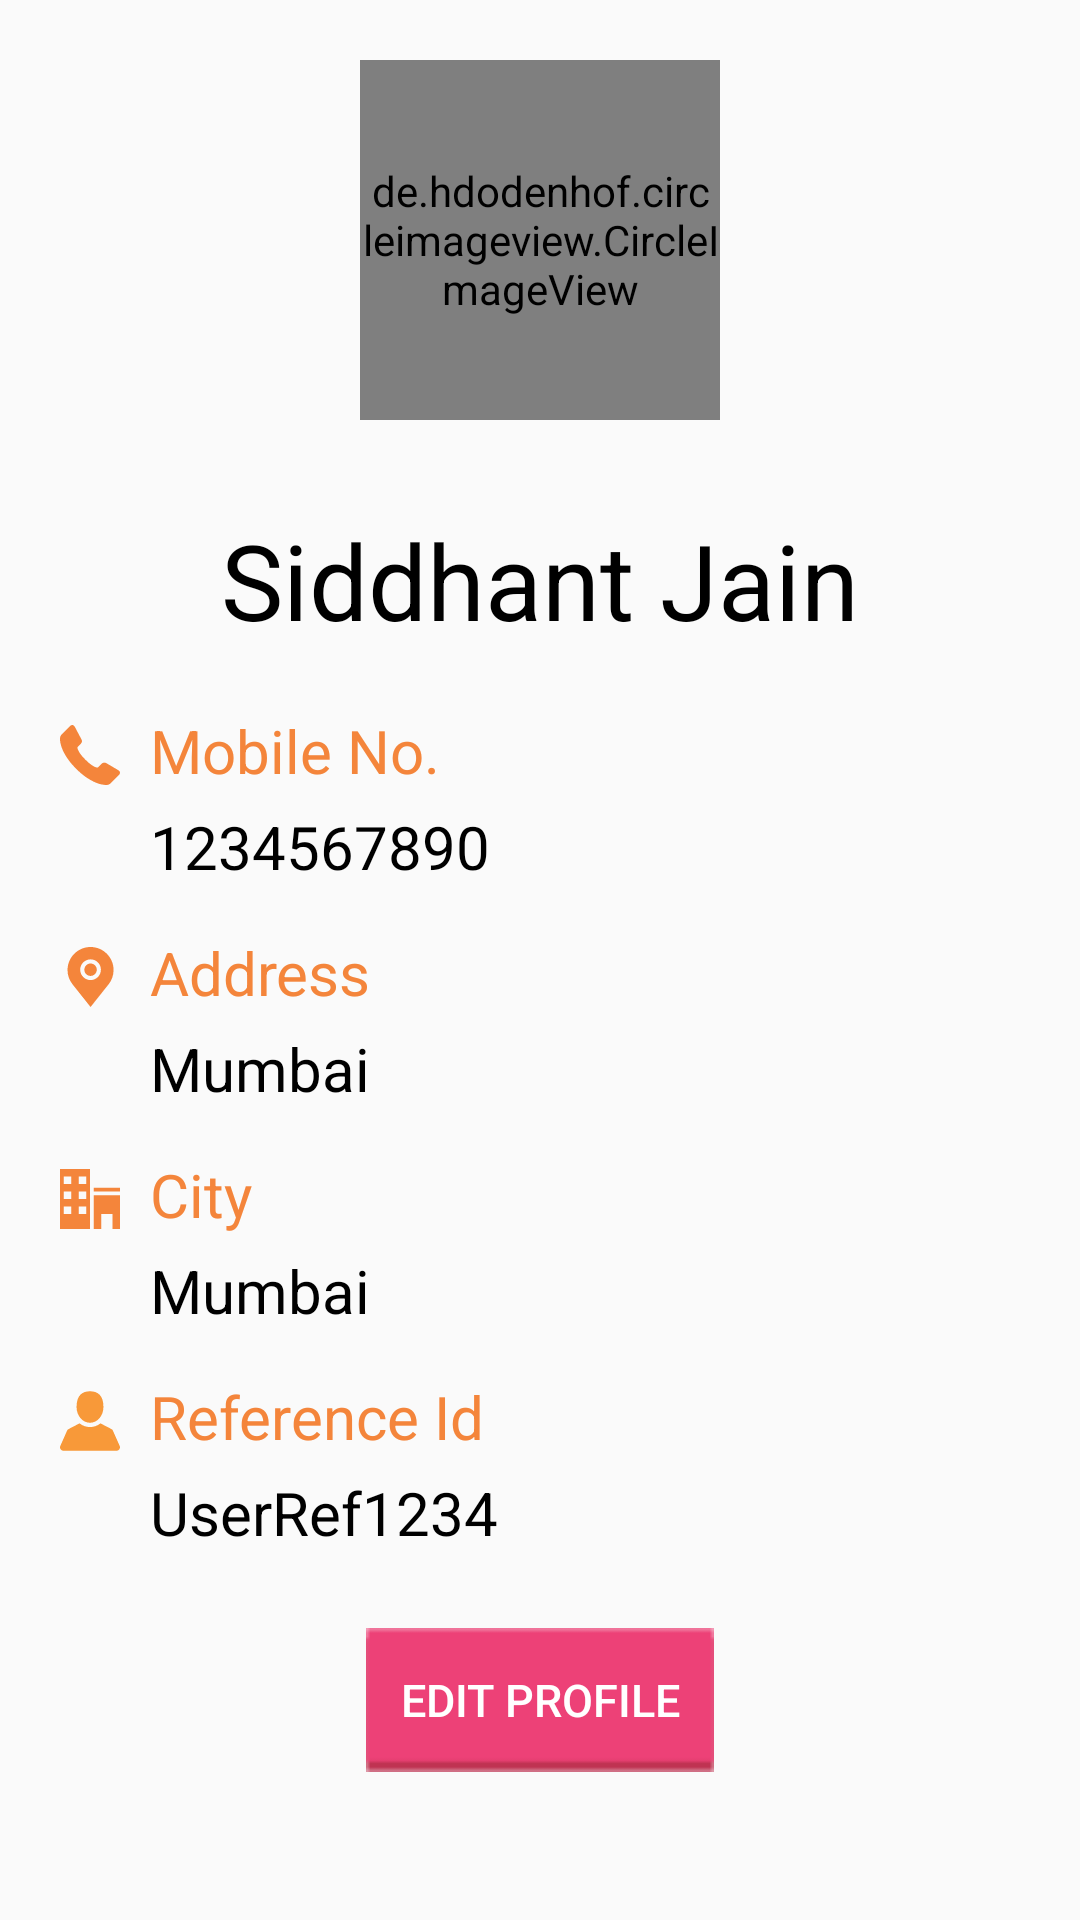

Icon bounding boxes for this 1080×1920 phone screenshot, format (x1, y1, x2, y2):
profile mobile: (60, 725, 120, 785)
